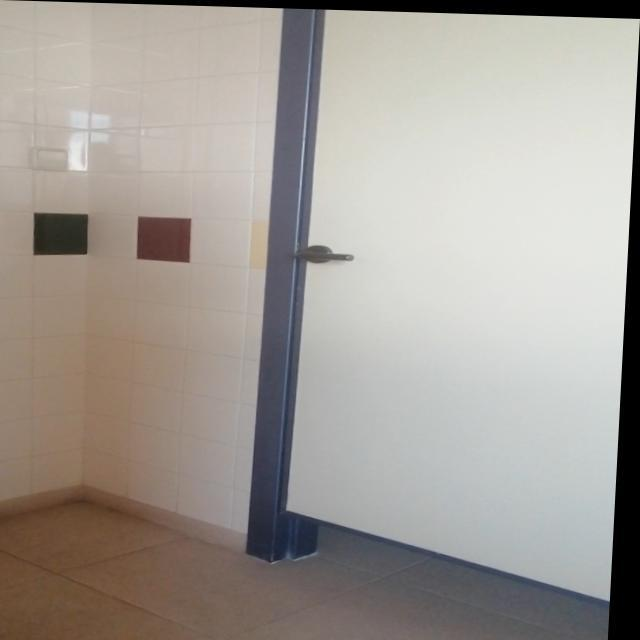door_handle: (298, 248, 359, 261)
